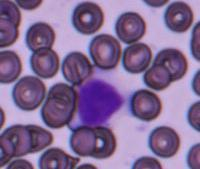L: (76, 67, 128, 128)
